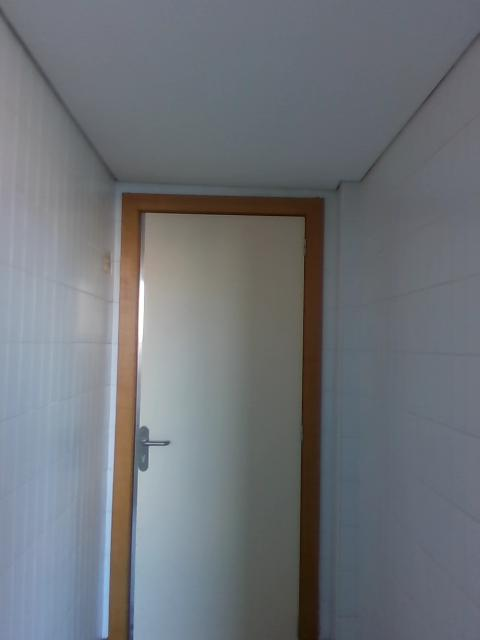door: (127, 212, 304, 640)
